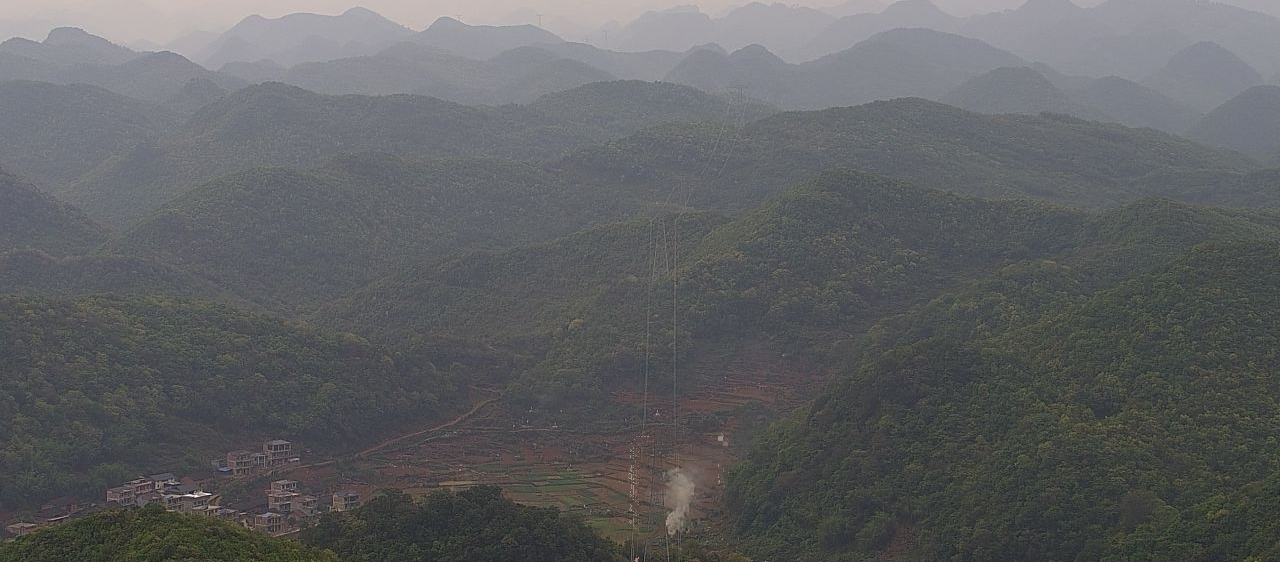烟雾: (662, 461, 710, 537)
